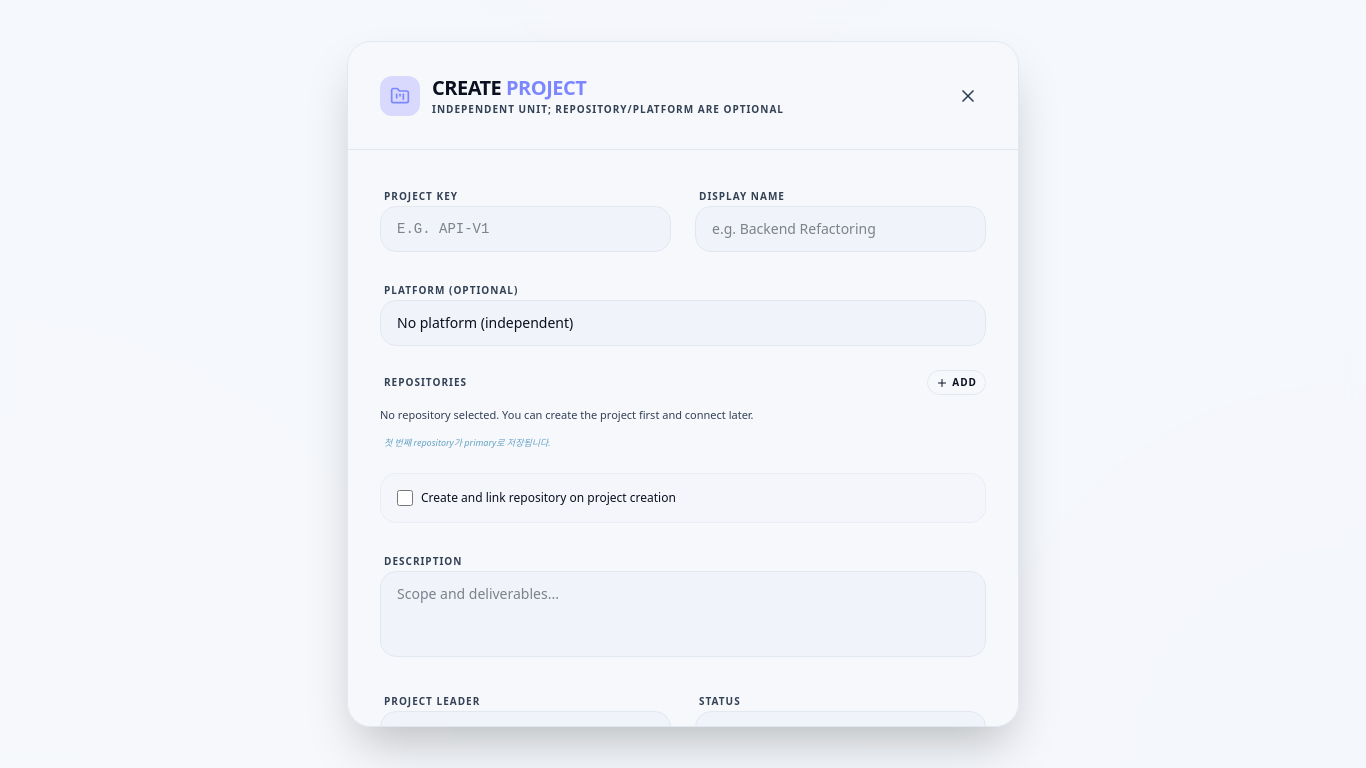
it: ProjectCreationModal › toggles createRepository checkbox and shows repo fields
The width and height of the screenshot is (1366, 768).
Click the checkbox labelled "Create and link repository on project creation".
click(405, 498)  # box [397,490,413,506]
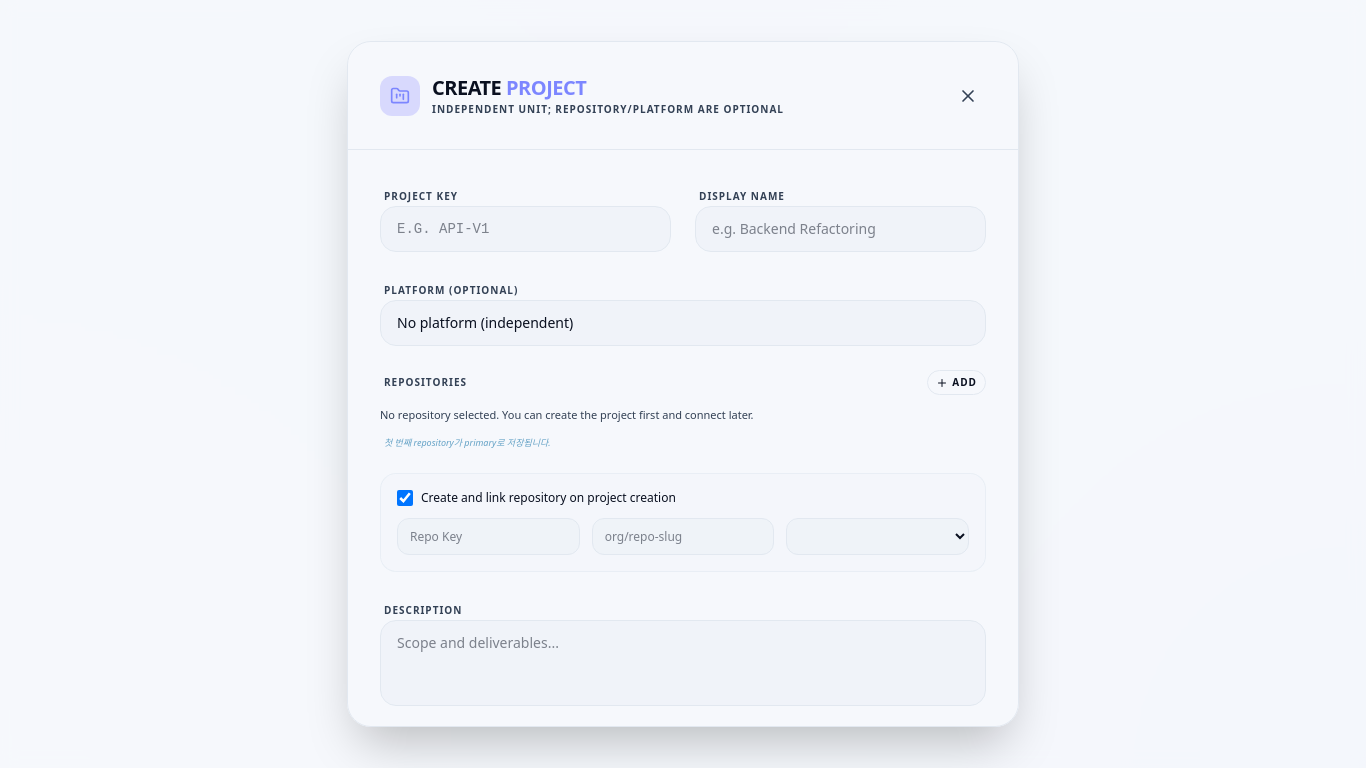
Expected: the checkbox labelled "Create and link repository on project creation" is checked, [397,490,413,506]
Expected: the field with placeholder "Repo Key" is shown, [397,518,580,555]
Expected: the field with placeholder "org/repo-slug" is shown, [592,518,774,555]
